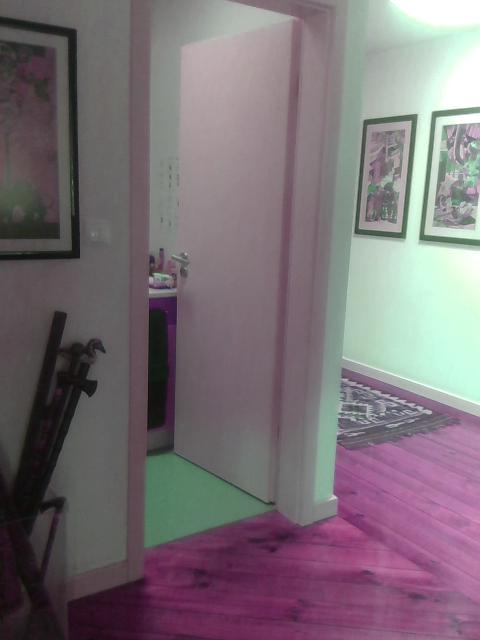open_door: (130, 1, 333, 580)
